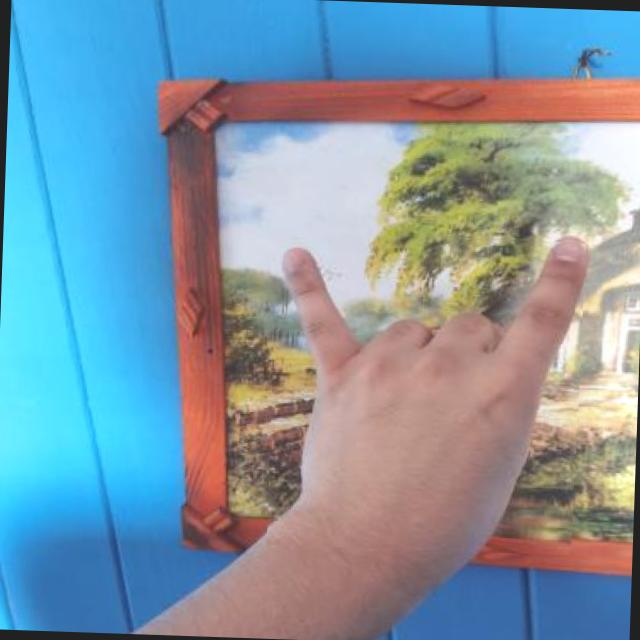U: (266, 228, 586, 554)
